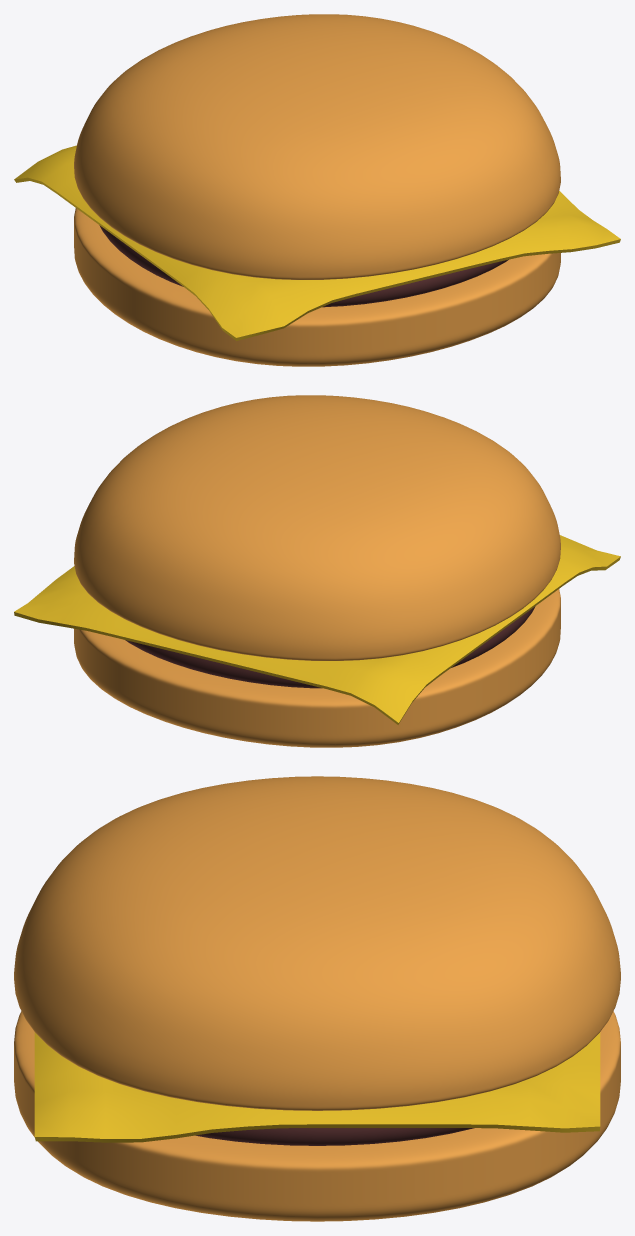
Rendered from hamburger.glb.
3 views of the same model, one above another, from view 1: azimuth 30°, elevation 25°; view 2: azimuth 150°, elevation 25°; view 3: azimuth 270°, elevation 25° (orthographic). The views are drawn at different scales.
Parts seen in each view (by area): view 1: Cube.002, Cube, Plane, Cube.001; view 2: Cube.002, Cube, Plane, Cube.001; view 3: Cube.002, Cube, Plane, Cube.001.
Boxes of the visible parts, x1,y1,x2,y2 form: Cube.002: [74, 14, 560, 279]; Cube: [74, 208, 560, 366]; Plane: [14, 145, 620, 340]; Cube.001: [99, 225, 508, 307]; Cube.002: [74, 395, 560, 660]; Cube: [74, 589, 560, 747]; Plane: [14, 535, 620, 724]; Cube.001: [125, 606, 535, 688]; Cube.002: [14, 776, 620, 1110]; Cube: [14, 1011, 620, 1221]; Plane: [34, 1032, 600, 1142]; Cube.001: [195, 1128, 474, 1145].
Bounding box in the file's own units: 9.02 × 4.57 × 9.02.
